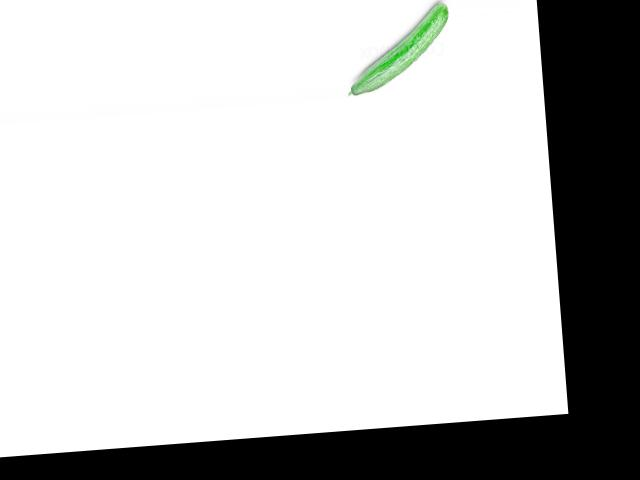cucumber: (340, 1, 453, 96)
